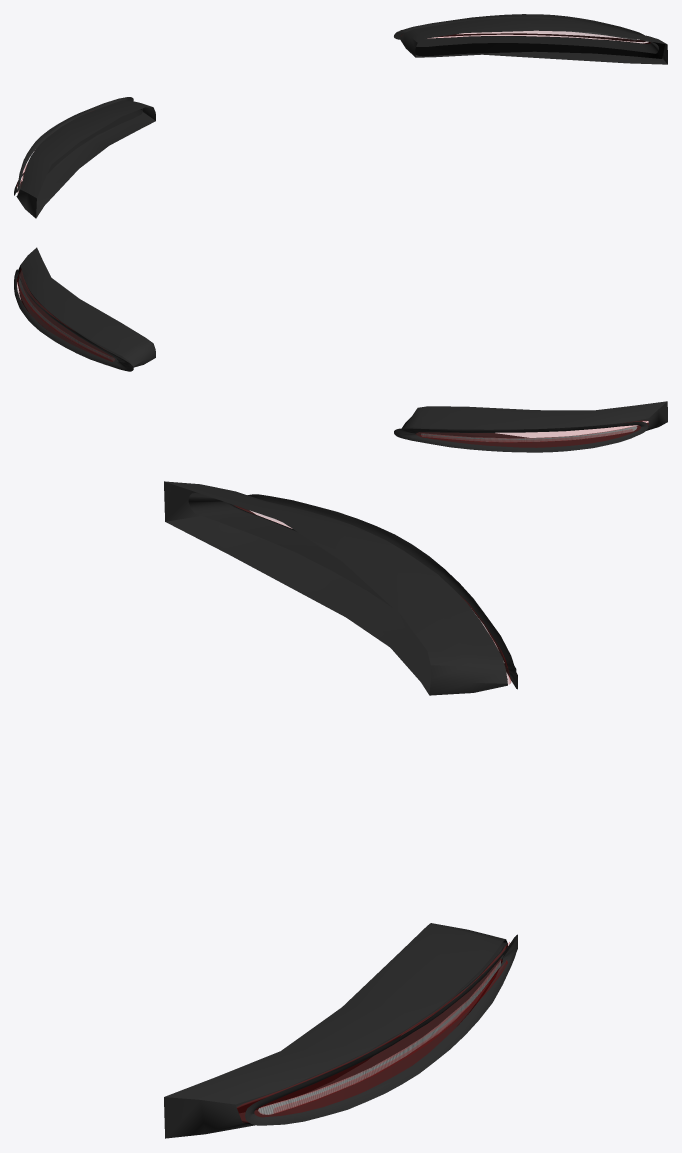
Rendered from tail_light.glb.
3 renders of one model, top to bottom at view 1: azimuth 30°, elevation 25°; view 2: azimuth 150°, elevation 25°; view 3: azimuth 270°, elevation 25°, orthographic. The views are drawn at different scales.
Visible parts, largest first — view 1: body:Kit0_Paint_Geo_lodABody_lodA_McLaren_Elva_2021Paint_Ma.; view 2: body:Kit0_Paint_Geo_lodABody_lodA_McLaren_Elva_2021Paint_Ma.; view 3: body:Kit0_Paint_Geo_lodABody_lodA_McLaren_Elva_2021Paint_Ma..
Boxes of the visible parts, x1,y1,x2,y2 form: body:Kit0_Paint_Geo_lodABody_lodA_McLaren_Elva_2021Paint_Ma.: [14, 14, 667, 218]; body:Kit0_Paint_Geo_lodABody_lodA_McLaren_Elva_2021Paint_Ma.: [14, 247, 667, 452]; body:Kit0_Paint_Geo_lodABody_lodA_McLaren_Elva_2021Paint_Ma.: [164, 481, 517, 1138].
Size of the model in its own units: 0.0168 by 0.00074 by 0.00406.
4 materials, 2 textured.
